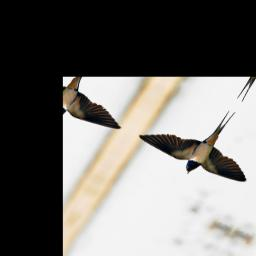Swallow: (128, 84, 256, 195)
